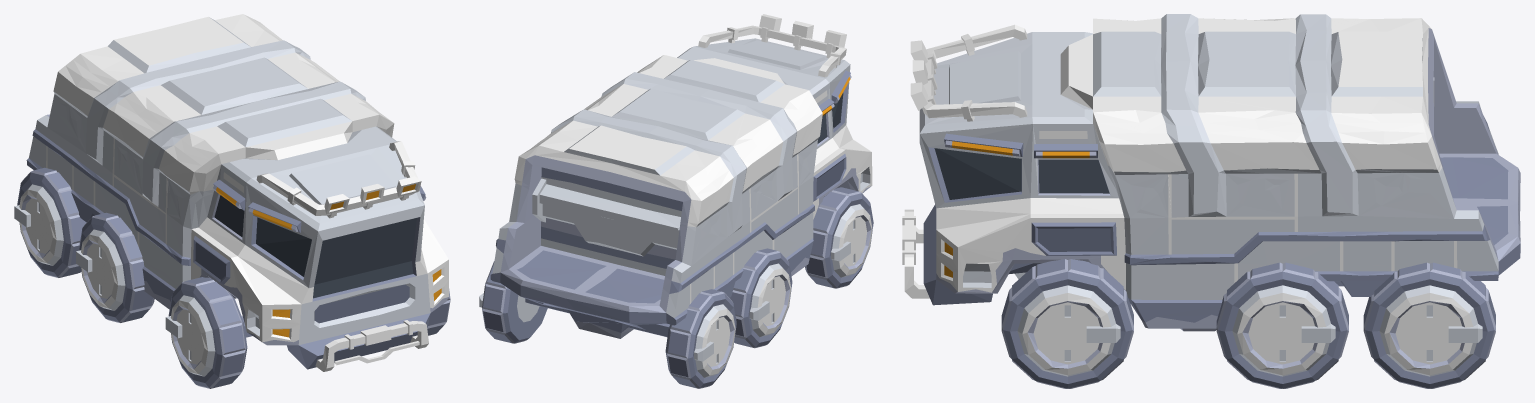
Rendered from Rover.FBX.
The picture shows the model from 3 angles, left to right: view 1: azimuth 30°, elevation 25°; view 2: azimuth 150°, elevation 25°; view 3: azimuth 270°, elevation 25°; orthographic projection. The views are drawn at different scales.
Visible parts, largest first — view 1: Rover; view 2: Rover; view 3: Rover.
Boxes of the visible parts, x1,y1,x2,y2 form: Rover: [14, 14, 450, 388]; Rover: [479, 14, 873, 388]; Rover: [902, 14, 1520, 388].
Size of the model in its own units: 51.02 by 43.52 by 92.33.
